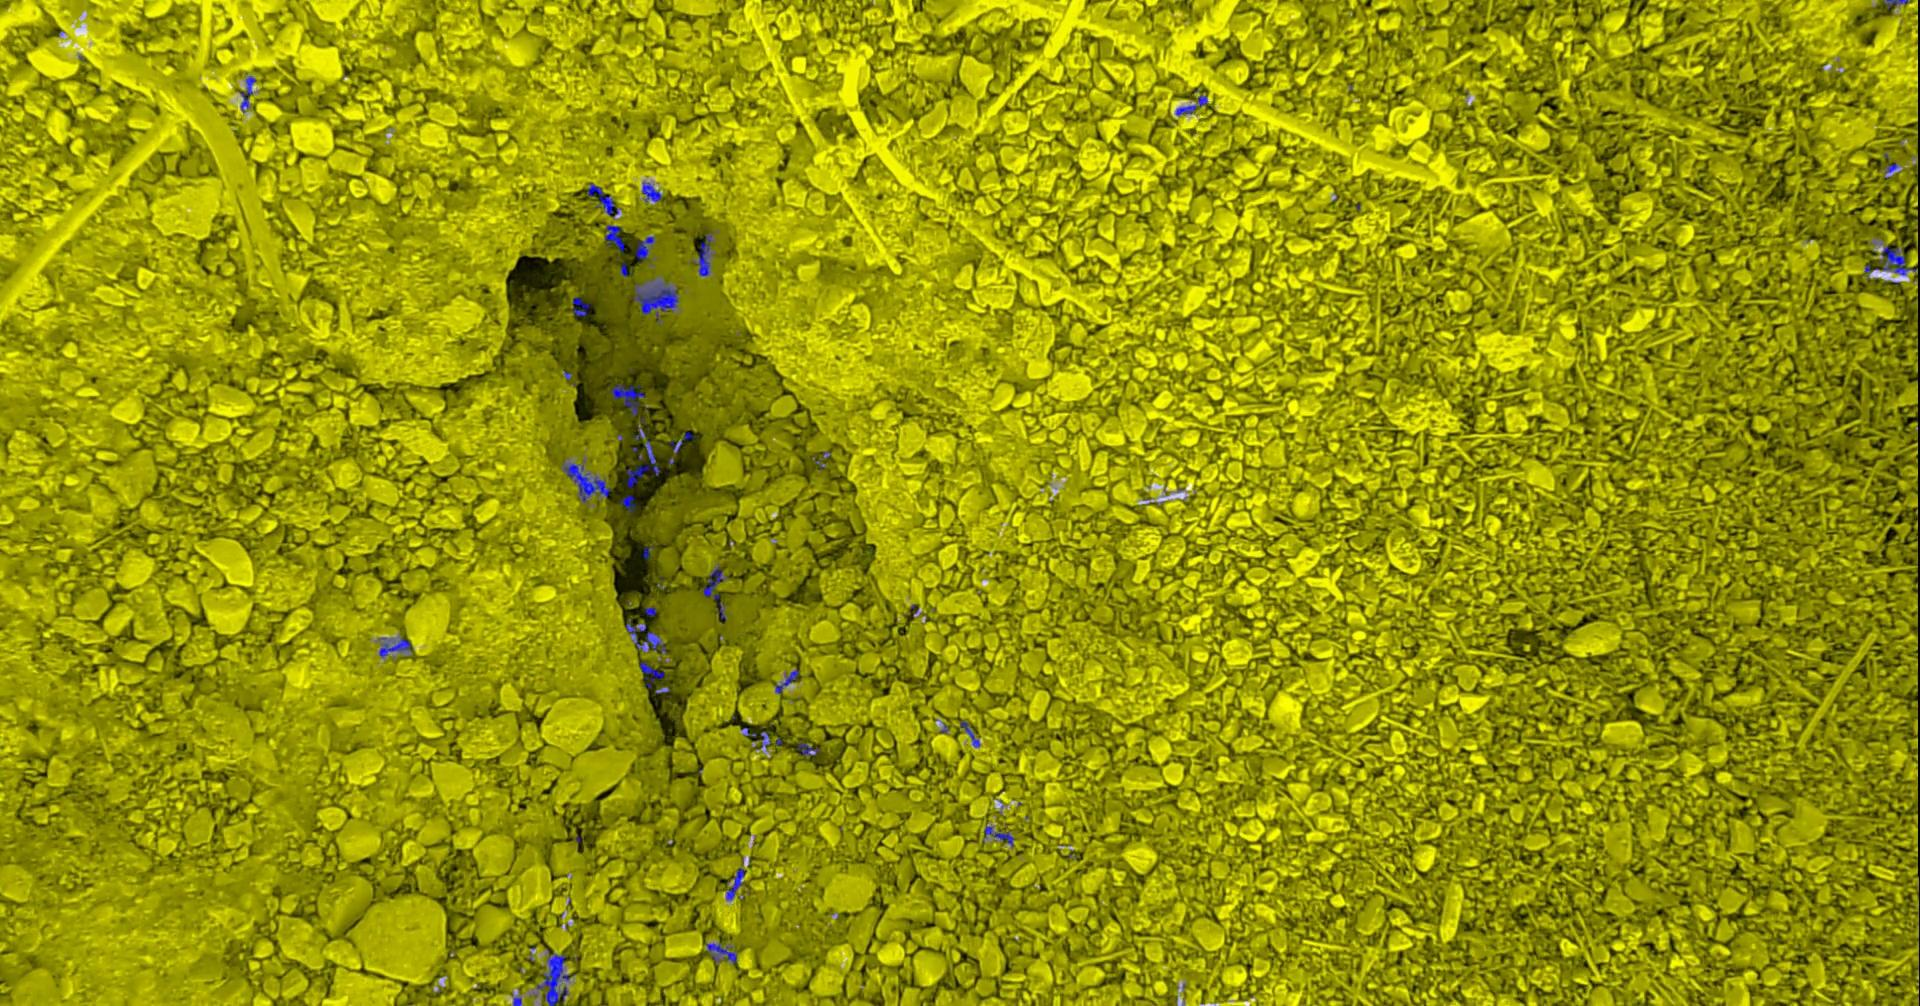ant: (632, 278, 678, 323), (561, 460, 610, 502), (535, 948, 569, 1005), (1864, 245, 1916, 279), (625, 439, 659, 486), (702, 564, 728, 622), (625, 617, 665, 653), (610, 384, 644, 417), (587, 183, 618, 217), (691, 231, 711, 276), (740, 727, 781, 747), (1175, 94, 1208, 116), (983, 826, 1015, 847), (639, 661, 664, 687), (725, 868, 745, 901), (378, 636, 410, 657), (705, 941, 737, 962), (775, 667, 797, 694), (239, 75, 255, 112), (959, 720, 979, 747), (604, 224, 623, 251), (635, 236, 654, 259), (641, 180, 662, 201), (571, 296, 589, 316), (620, 494, 635, 513), (797, 742, 819, 754), (1883, 0, 1909, 8), (669, 439, 682, 452)
